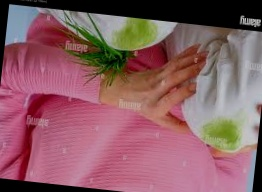earth: (114, 16, 160, 52), (202, 117, 243, 148)
